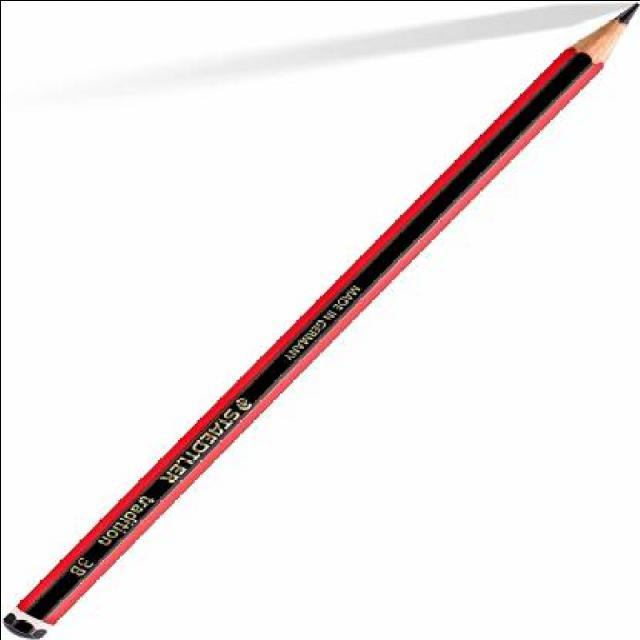pencil: (557, 0, 640, 79)
